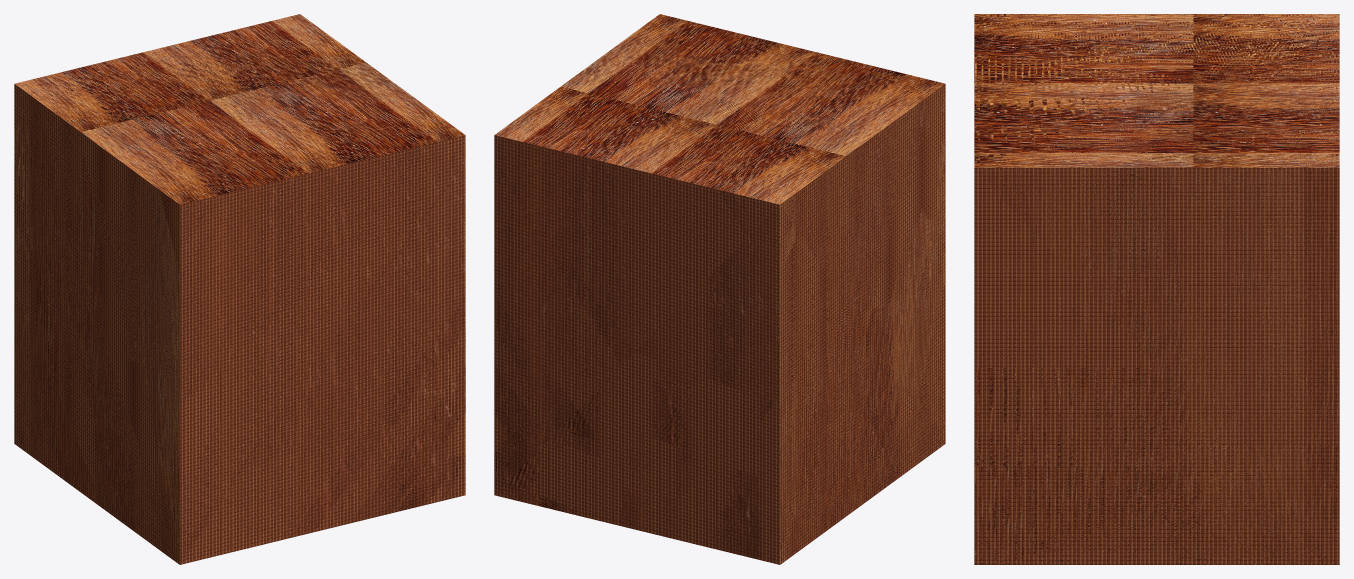
File: kekatung.glb
3 renders of one model, left to right at view 1: azimuth 30°, elevation 25°; view 2: azimuth 150°, elevation 25°; view 3: azimuth 270°, elevation 25°, orthographic. The views are drawn at different scales.
Parts seen in each view (by area): view 1: BackSide005_1, FrontSide005_1, FrontSide005_2, FrontSide005; view 2: BackSide005_1, FrontSide005_1, FrontSide005_2, FrontSide005; view 3: BackSide005_1, FrontSide005_2, FrontSide005.
Part boxes in pixels (<box>): BackSide005_1: <box>14,14,465,564</box>; FrontSide005_1: <box>180,136,465,562</box>; FrontSide005_2: <box>14,84,179,560</box>; FrontSide005: <box>20,14,459,204</box>; BackSide005_1: <box>494,14,945,564</box>; FrontSide005_1: <box>494,135,779,559</box>; FrontSide005_2: <box>780,86,945,563</box>; FrontSide005: <box>498,16,942,203</box>; BackSide005_1: <box>974,14,1339,564</box>; FrontSide005_2: <box>974,167,1339,564</box>; FrontSide005: <box>974,14,1339,167</box>.
Size of the model in its own units: 2.16 by 2.6 by 2.17.
4 materials, 3 textured.
